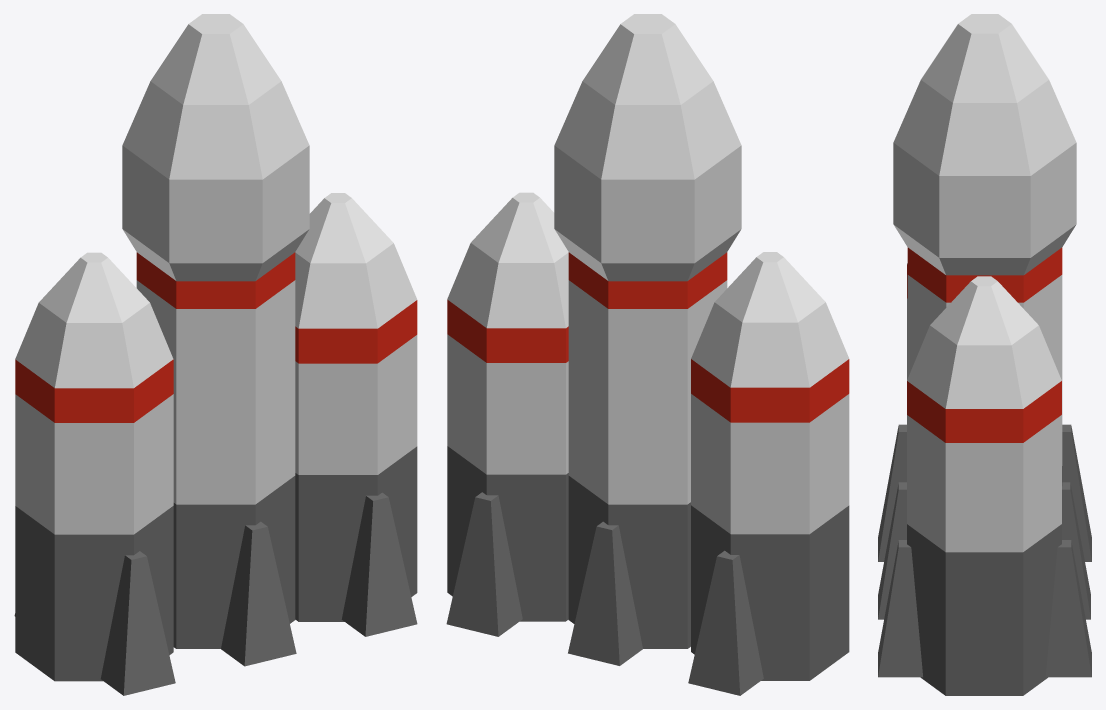
Rendered from Rocket.fbx.
The picture shows the model from 3 angles, left to right: view 1: azimuth 30°, elevation 25°; view 2: azimuth 150°, elevation 25°; view 3: azimuth 270°, elevation 25°; orthographic projection. The views are drawn at different scales.
Parts seen in each view (by area): view 1: Círculo.002, Círculo, Plano.002, Plano.001; view 2: Círculo.002, Círculo, Plano.002, Plano.003; view 3: Círculo.002, Círculo, Plano.002, Plano.001, Plano.003.
Part boxes in pixels (bbox=[...]): Círculo.002: bbox=[15, 193, 417, 681]; Círculo: bbox=[122, 14, 309, 648]; Plano.002: bbox=[14, 492, 417, 695]; Plano.001: bbox=[221, 521, 296, 666]; Círculo.002: bbox=[447, 192, 849, 680]; Círculo: bbox=[554, 14, 741, 648]; Plano.002: bbox=[446, 492, 763, 695]; Plano.003: bbox=[568, 521, 642, 665]; Círculo.002: bbox=[907, 263, 1061, 695]; Círculo: bbox=[893, 14, 1076, 485]; Plano.002: bbox=[878, 424, 1091, 677]; Plano.001: bbox=[878, 482, 906, 619]; Plano.003: bbox=[1062, 482, 1090, 619].
Size of the model in its own units: 5.29 by 8.34 by 2.76.
